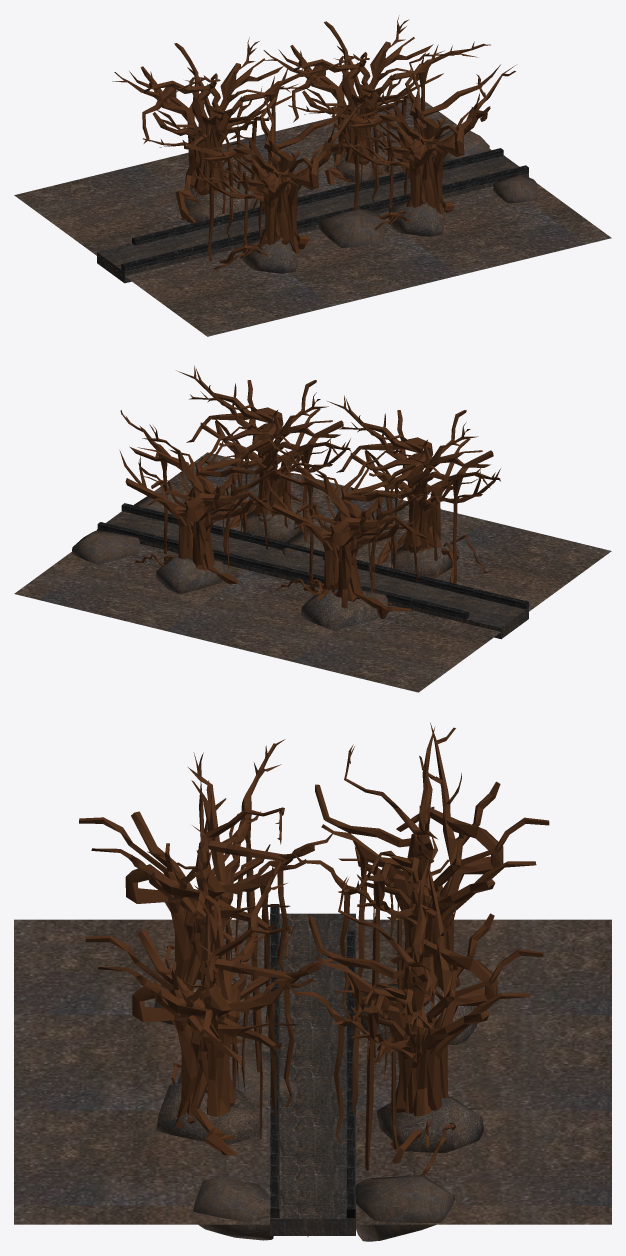
Rendered from straight tile.fbx.
3 renders of one model, top to bottom at view 1: azimuth 30°, elevation 25°; view 2: azimuth 150°, elevation 25°; view 3: azimuth 270°, elevation 25°, orthographic. The views are drawn at different scales.
Parts seen in each view (by area): view 1: Plane.044, Vert.023, Vert.009, Vert.011, Vert.010, straight path, Cube.009, Cube.008, ST_Stone1.002, ST_Stone1.010, ST_Stone1.042, ST_Stone1.001 (+3 smaller); view 2: Plane.044, Vert.011, Vert.023, Vert.010, Vert.009, straight path, Cube.009, Cube.008, ST_Stone1.001, ST_Stone1.003, ST_Stone1.011, ST_Stone1.042 (+2 smaller); view 3: Plane.044, Vert.010, Vert.009, straight path, Vert.011, Vert.023, ST_Stone1.003, ST_Stone1.011, ST_Stone1.041, ST_Stone1.010, Cube.009, Cube.008 (+2 smaller).
Boxes of the visible parts, x1=… form: Plane.044: x1=14, y1=98, x2=611, y2=336; Vert.023: x1=142, y1=84, x2=370, y2=277; Vert.009: x1=288, y1=50, x2=515, y2=230; Vert.011: x1=112, y1=37, x2=342, y2=223; Vert.010: x1=262, y1=15, x2=490, y2=185; straight path: x1=97, y1=155, x2=528, y2=283; Cube.009: x1=121, y1=165, x2=528, y2=271; Cube.008: x1=132, y1=148, x2=503, y2=245; ST_Stone1.002: x1=319, y1=209, x2=384, y2=247; ST_Stone1.010: x1=388, y1=200, x2=443, y2=236; ST_Stone1.042: x1=242, y1=237, x2=297, y2=273; ST_Stone1.001: x1=184, y1=181, x2=251, y2=224; Plane.044: x1=14, y1=452, x2=611, y2=692; Vert.011: x1=266, y1=434, x2=438, y2=618; Vert.023: x1=327, y1=395, x2=500, y2=583; Vert.010: x1=119, y1=410, x2=290, y2=584; Vert.009: x1=176, y1=365, x2=351, y2=549; straight path: x1=97, y1=511, x2=528, y2=639; Cube.009: x1=121, y1=503, x2=528, y2=609; Cube.008: x1=97, y1=522, x2=469, y2=619; ST_Stone1.001: x1=301, y1=589, x2=387, y2=630; ST_Stone1.003: x1=71, y1=530, x2=139, y2=564; ST_Stone1.011: x1=155, y1=555, x2=223, y2=593; ST_Stone1.042: x1=392, y1=537, x2=459, y2=576; Plane.044: x1=14, y1=919, x2=611, y2=1224; Vert.010: x1=286, y1=854, x2=543, y2=1236; Vert.009: x1=85, y1=857, x2=341, y2=1155; straight path: x1=270, y1=913, x2=355, y2=1235; Vert.011: x1=292, y1=723, x2=549, y2=1063; Vert.023: x1=79, y1=739, x2=332, y2=1043; ST_Stone1.003: x1=355, y1=1175, x2=454, y2=1241; ST_Stone1.011: x1=376, y1=1096, x2=483, y2=1152; ST_Stone1.041: x1=193, y1=1178, x2=273, y2=1240; ST_Stone1.010: x1=156, y1=1083, x2=263, y2=1144; Cube.009: x1=270, y1=904, x2=279, y2=1217; Cube.008: x1=346, y1=931, x2=355, y2=1218.
Size of the model in its own units: 8409 by 4076 by 6961.
